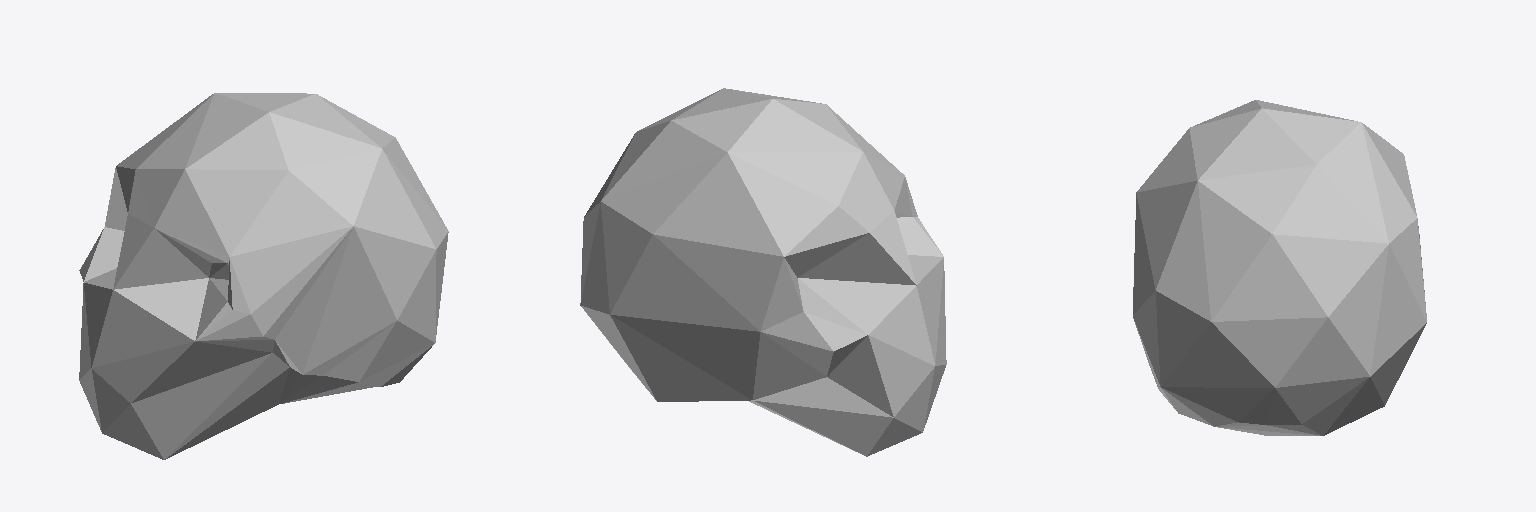
The model's file is caveira.OBJ.
3 renders of one model, left to right at view 1: azimuth 30°, elevation 25°; view 2: azimuth 150°, elevation 25°; view 3: azimuth 270°, elevation 25°, orthographic.
Parts seen in each view (by area): view 1: Group1627; view 2: Group1627; view 3: Group1627.
Part boxes in pixels (bbox=[...]): Group1627: bbox=[79, 93, 448, 459]; Group1627: bbox=[580, 88, 946, 456]; Group1627: bbox=[1133, 100, 1426, 435].
Size of the model in its own units: 22.25 by 19.17 by 17.11.